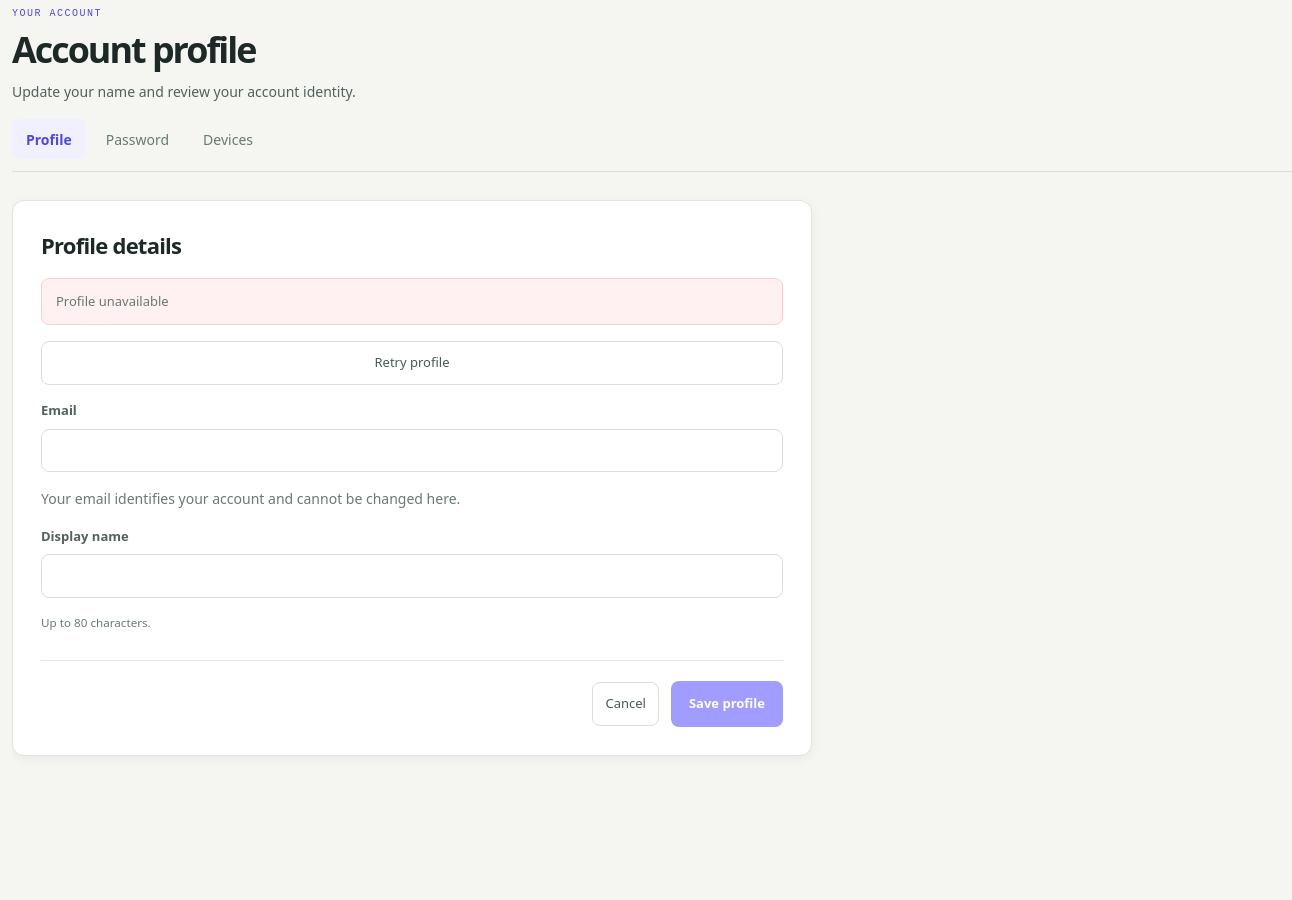
Test case: offers a profile retry without loading device data
Expected: the text "Profile unavailable" is shown, [41,278,783,325]
Click the button "Retry profile".
click(412, 363)  # box [41,341,783,385]
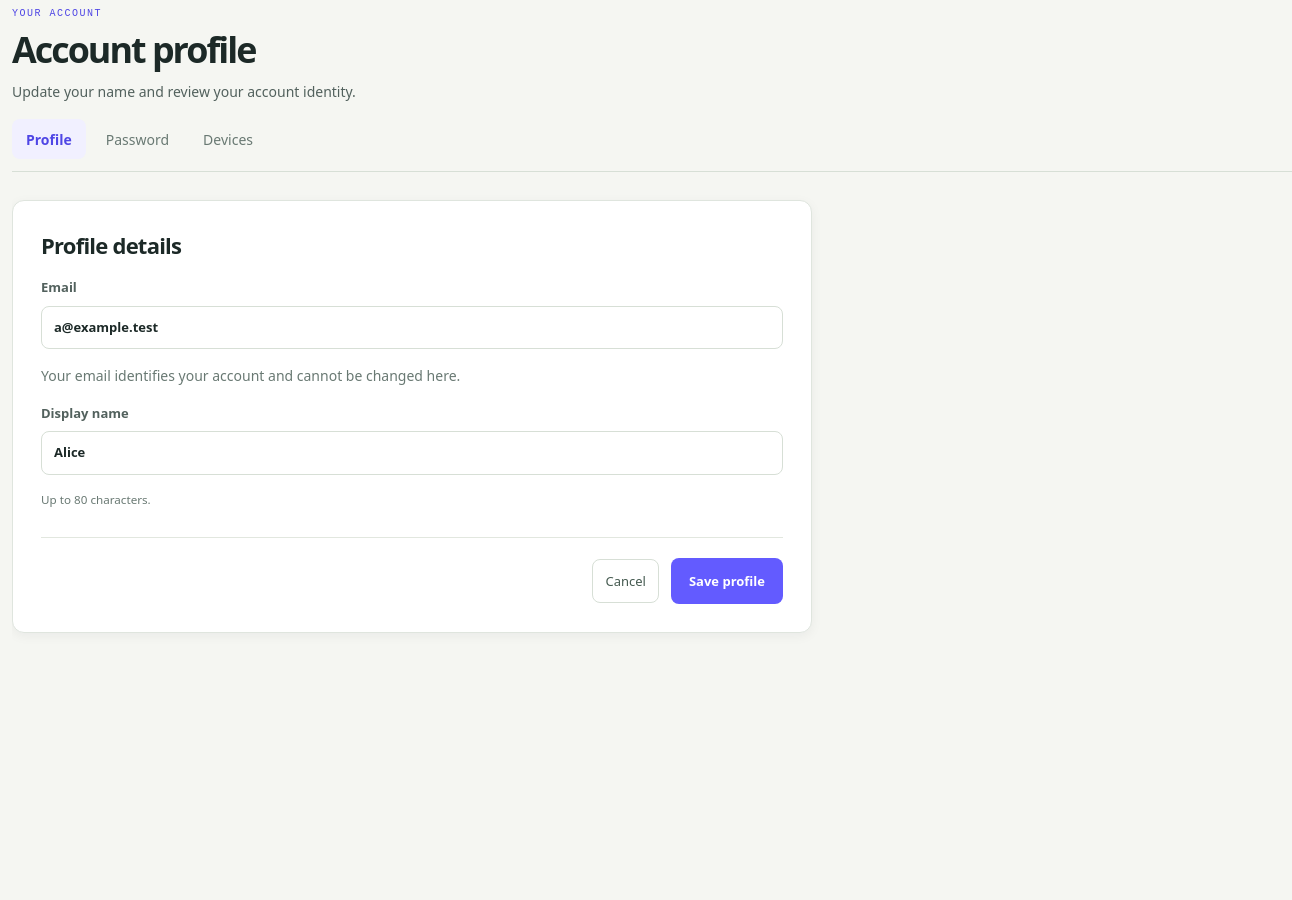
Now the field showing "Alice" is shown, box [41,431,783,475]
